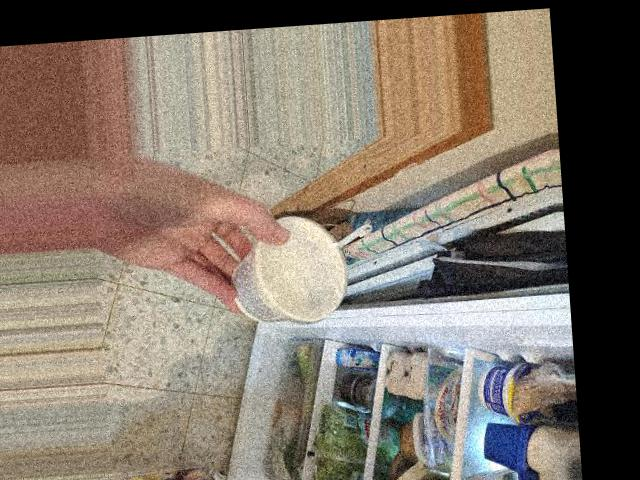cotage: (230, 219, 359, 322)
